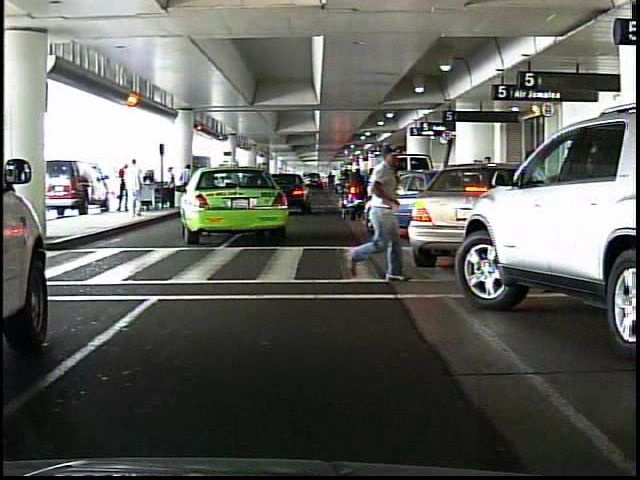person: (343, 140, 415, 288)
